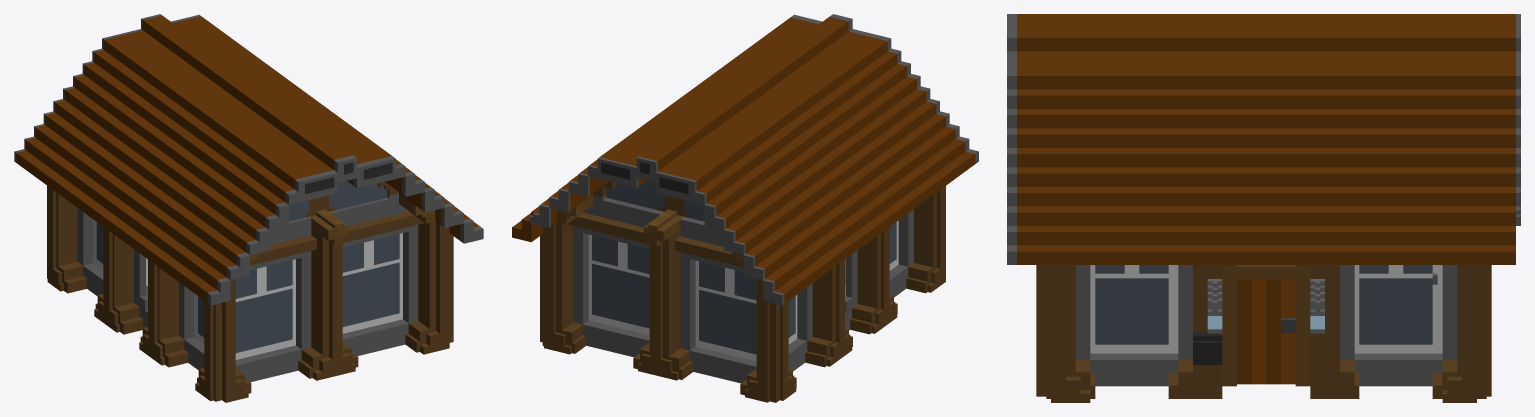
Rendered from prop_house_t1.obj.
The picture shows the model from 3 angles, left to right: view 1: azimuth 30°, elevation 25°; view 2: azimuth 150°, elevation 25°; view 3: azimuth 270°, elevation 25°; orthographic projection. The views are drawn at different scales.
Bounding box in the file's own units: 8.4 × 6.6 × 10.5.
1 material, 1 textured.
